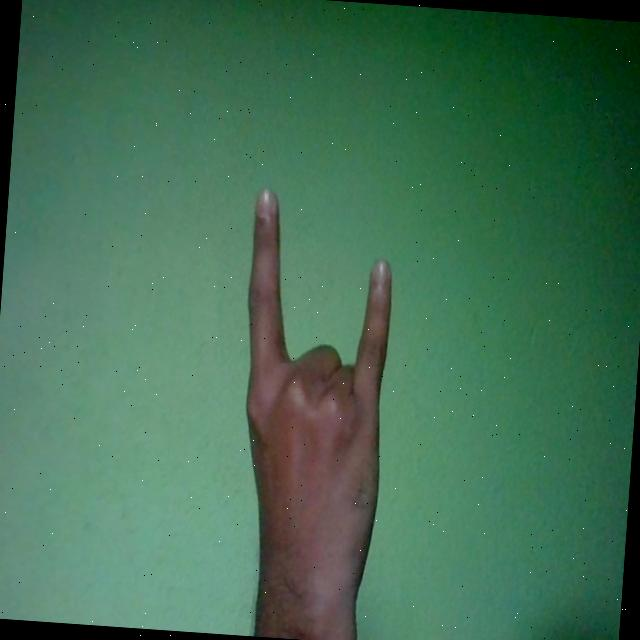open Plam: (224, 189, 398, 633)
